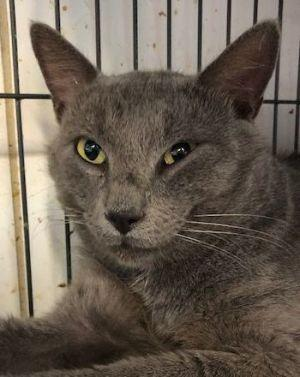rblue: (27, 21, 295, 274)
